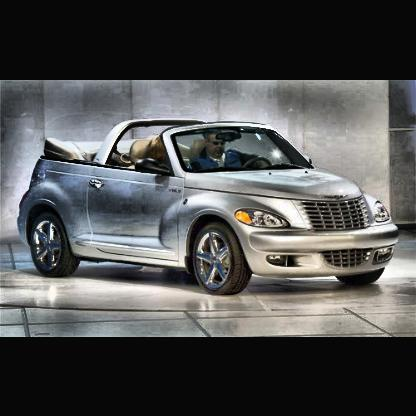Chrysler PT Cruiser Convertible 2008: (15, 114, 403, 300)
